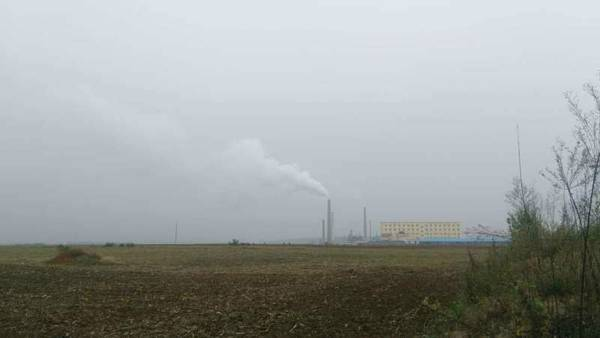dust: (221, 139, 336, 209)
